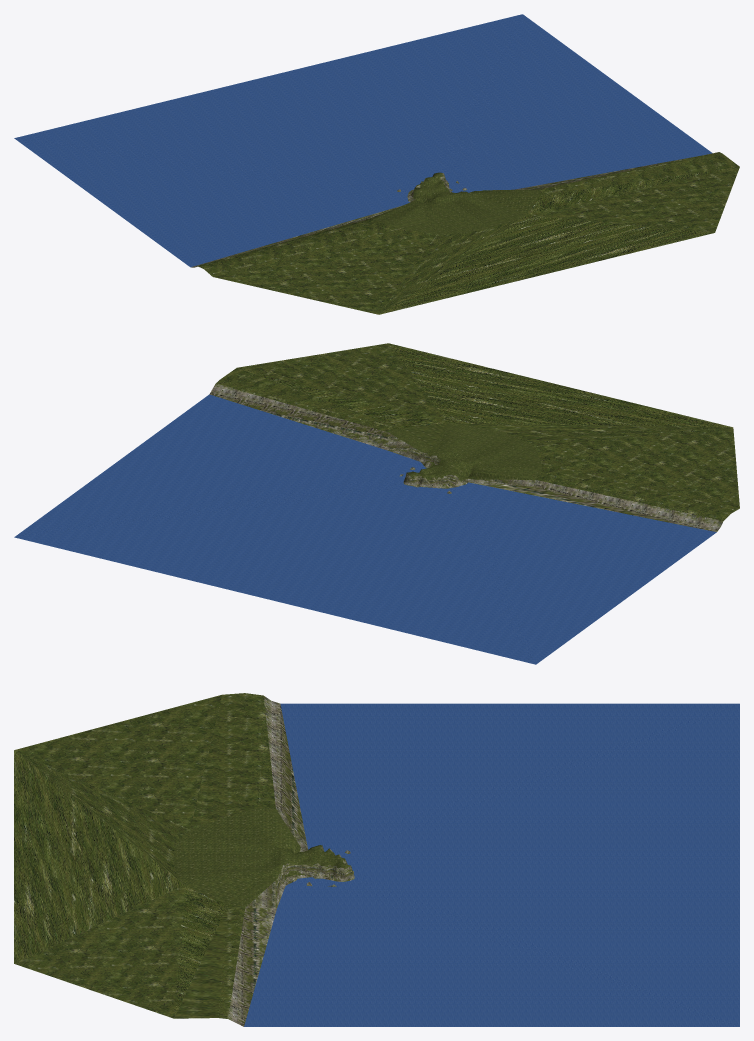
File: ENVO_Cliff.obj
The picture shows the model from 3 angles, top to bottom: view 1: azimuth 30°, elevation 25°; view 2: azimuth 150°, elevation 25°; view 3: azimuth 270°, elevation 25°; orthographic projection. The views are drawn at different scales.
Parts seen in each view (by area): view 1: Cliff; view 2: Cliff; view 3: Cliff.
Boxes of the visible parts, <box> form: Cliff: <box>14,14,739,314</box>; Cliff: <box>14,343,739,664</box>; Cliff: <box>14,693,739,1026</box>.
Size of what is drawn, in the model's own units: 23563 by 402 by 22356.
Materials: 7 (7 with a texture image).
